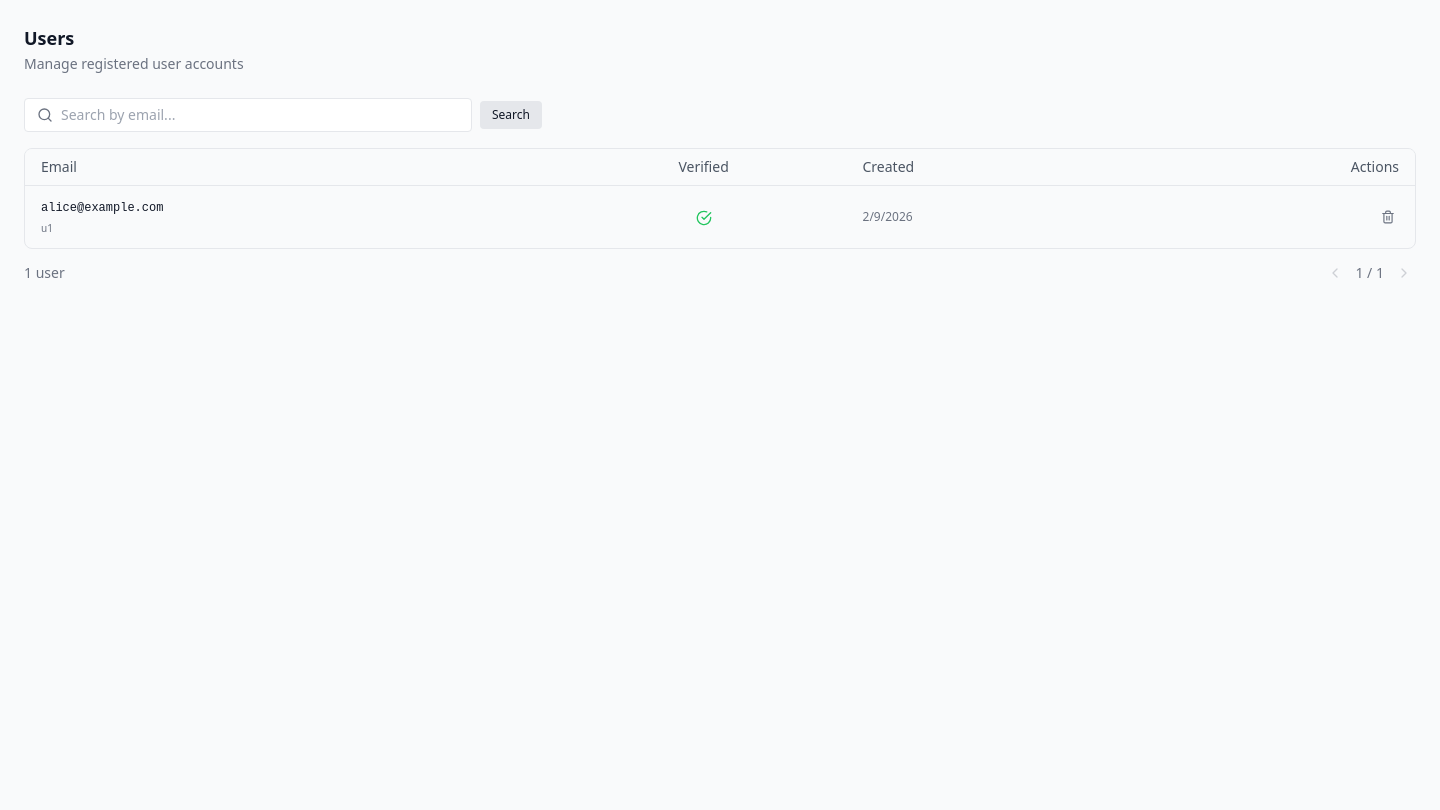
Test: Users › delete button opens confirmation dialog
This screenshot has width=1440, height=810.
Expected: the text "alice@example.com" is shown, left=41, top=201, right=163, bottom=215
Step 1. Click the button titled "Delete user" → [1388, 217], box left=1377, top=206, right=1399, bottom=228
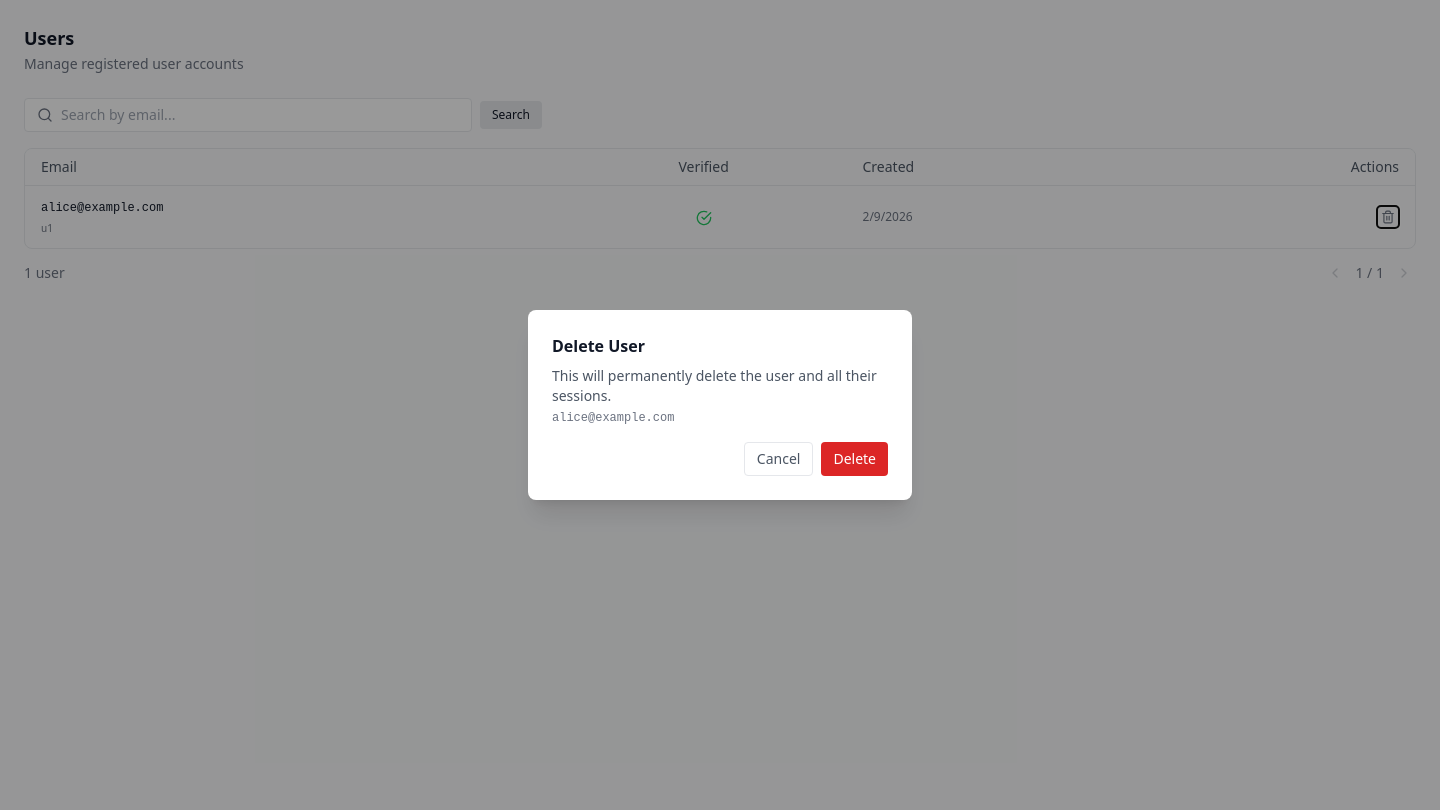
Now the heading "Delete User" is shown, box left=552, top=335, right=645, bottom=357
Now the text "This will permanently delete the user and all their sessions." is shown, box left=552, top=366, right=888, bottom=406
